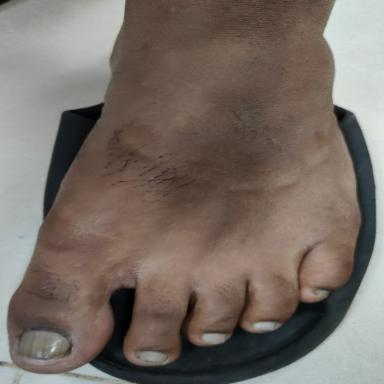normal skin: (7, 0, 360, 373)
